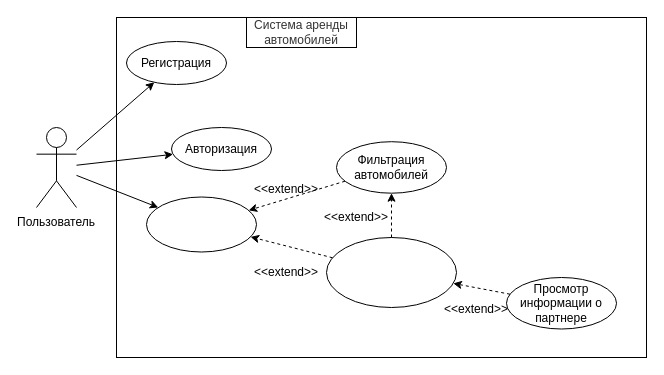
Some shapes in this 664 by 375 pixel diagram are drawn without their labels. The centre of each missing label's shape, as x and y in pixels:
Просмотр детальной информации об автомобиле: the point at 391,272
Просмотр списка автомобилей: the point at 201,224
